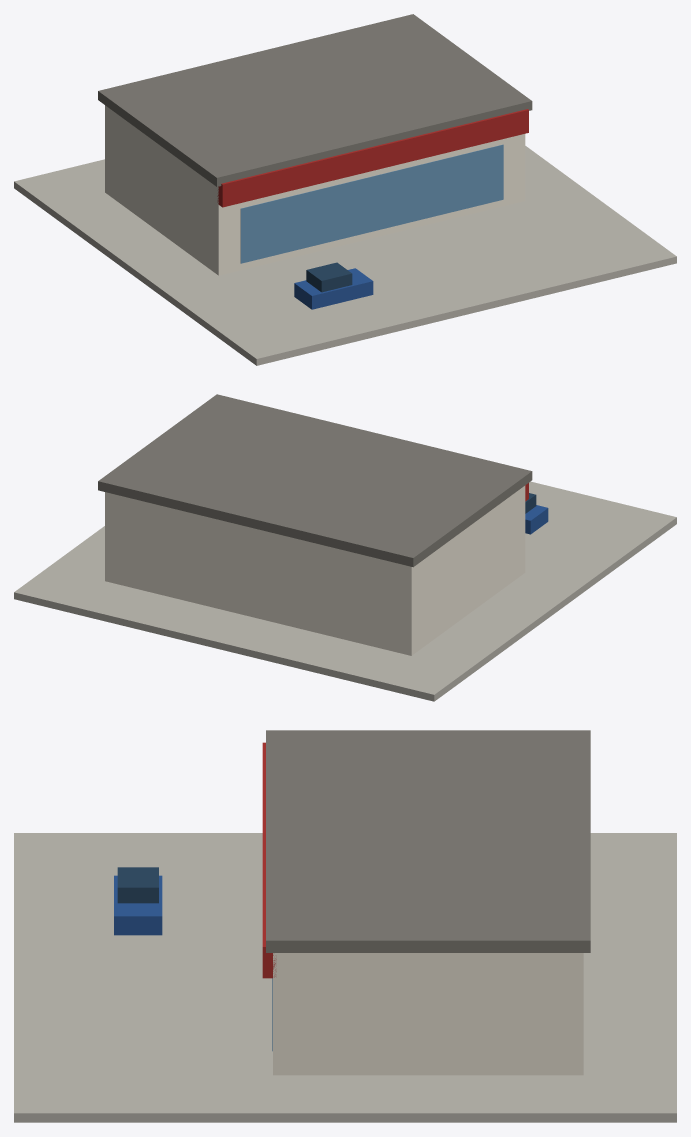
File: zone_C_d1_e3.glb
3 views of the same model, one above another, from view 1: azimuth 30°, elevation 25°; view 2: azimuth 150°, elevation 25°; view 3: azimuth 270°, elevation 25° (orthographic). The views are drawn at different scales.
Visible parts, largest first — view 1: zone_C_d1_e3; view 2: zone_C_d1_e3; view 3: zone_C_d1_e3.
Part boxes in pixels (x1=…): zone_C_d1_e3: x1=14, y1=14, x2=676, y2=365; zone_C_d1_e3: x1=14, y1=394, x2=676, y2=701; zone_C_d1_e3: x1=14, y1=730, x2=676, y2=1122.
Bounding box in the file's own units: 0.96 × 0.235 × 0.96.
